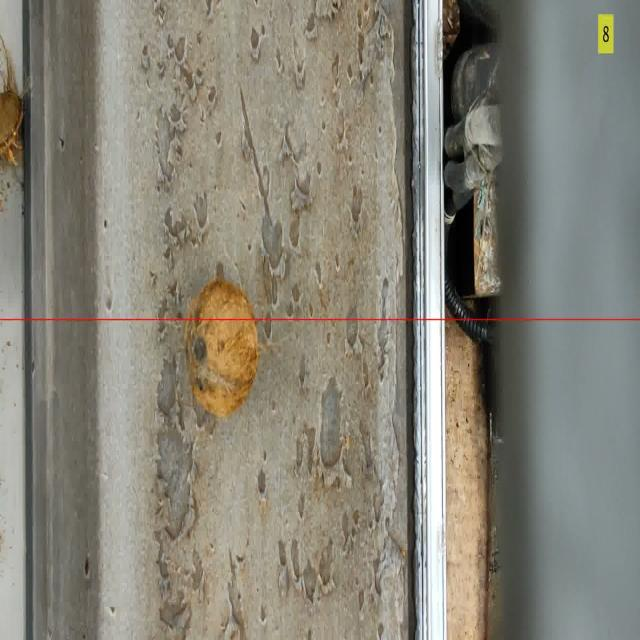Coconut-Conveyor-Belt: (185, 280, 259, 420), (0, 36, 23, 165)
